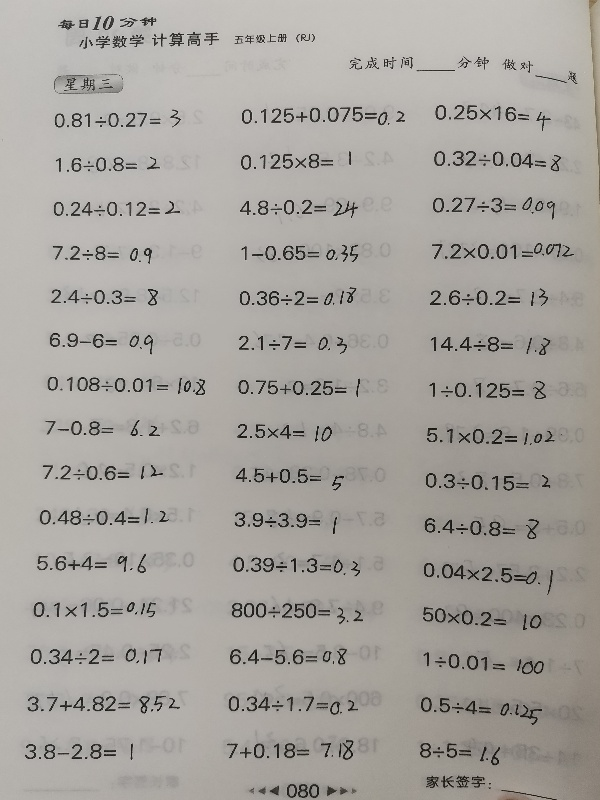equation: (237, 102, 408, 128), (419, 562, 556, 594), (37, 411, 168, 443), (24, 692, 184, 718), (43, 372, 209, 397), (428, 190, 559, 220), (232, 462, 348, 495), (223, 736, 358, 764), (227, 598, 367, 625), (431, 100, 554, 129), (420, 514, 542, 543), (51, 106, 185, 132), (416, 695, 545, 722), (428, 239, 577, 262), (224, 692, 361, 717), (429, 147, 564, 172), (426, 377, 550, 404), (27, 645, 166, 669), (422, 424, 566, 447), (426, 332, 553, 358), (235, 375, 364, 400), (229, 553, 363, 577), (421, 470, 553, 494), (35, 505, 172, 528), (427, 285, 552, 310), (235, 285, 360, 310), (236, 195, 361, 220), (22, 740, 146, 765), (238, 241, 362, 266), (30, 597, 159, 621), (49, 197, 183, 220), (236, 149, 357, 174), (34, 551, 150, 577), (226, 645, 351, 669), (419, 652, 547, 675), (39, 461, 166, 484), (45, 329, 156, 355), (235, 331, 350, 356), (48, 285, 162, 310), (231, 508, 340, 534), (416, 739, 507, 768), (53, 153, 164, 176), (49, 241, 155, 265), (233, 420, 335, 444), (418, 605, 510, 628)
